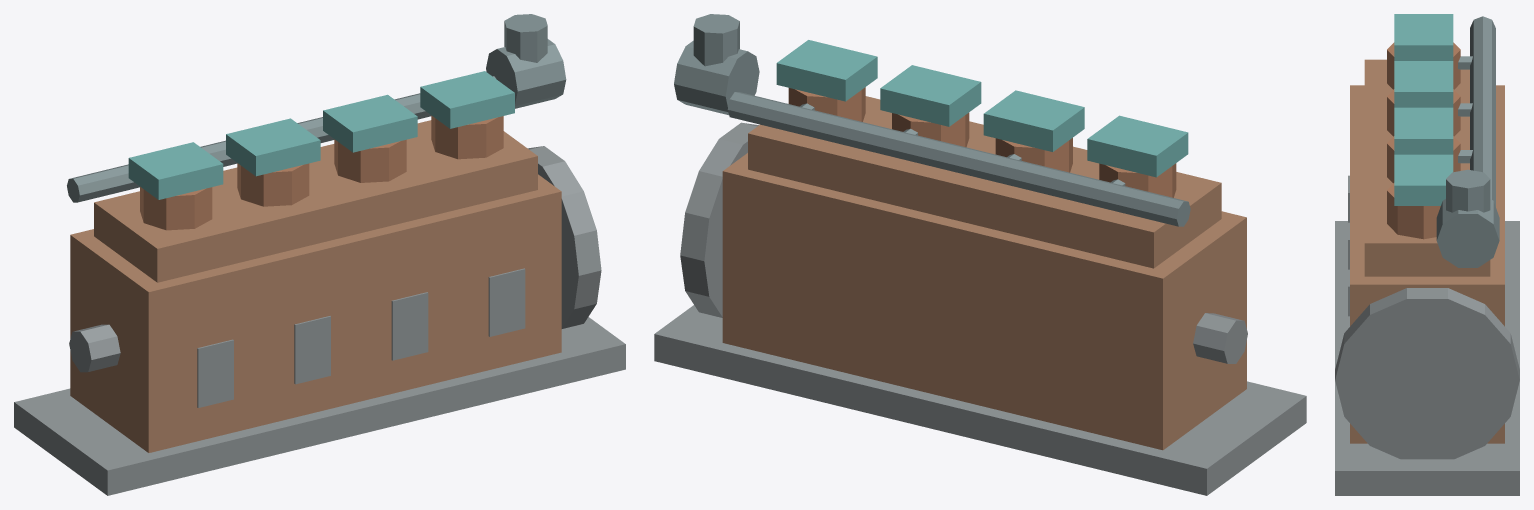
Rendered from furn_engine_block.fbx.
The picture shows the model from 3 angles, left to right: view 1: azimuth 30°, elevation 25°; view 2: azimuth 150°, elevation 25°; view 3: azimuth 270°, elevation 25°; orthographic projection. The views are drawn at different scales.
Visible parts, largest first — view 1: furn_engine_block; view 2: furn_engine_block; view 3: furn_engine_block.
Boxes of the visible parts, left/top/right/bottom form: furn_engine_block: left=14, top=14, right=625, bottom=495; furn_engine_block: left=654, top=14, right=1306, bottom=495; furn_engine_block: left=1335, top=14, right=1519, bottom=495.
Bounding box in the file's own units: 3.2 × 1.8 × 1.
